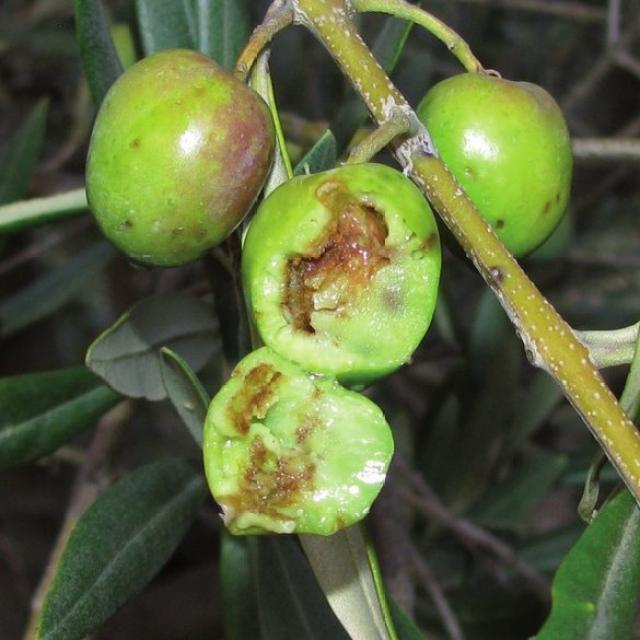Anthracnose: (203, 163, 440, 535), (88, 49, 274, 265), (417, 71, 572, 257)
